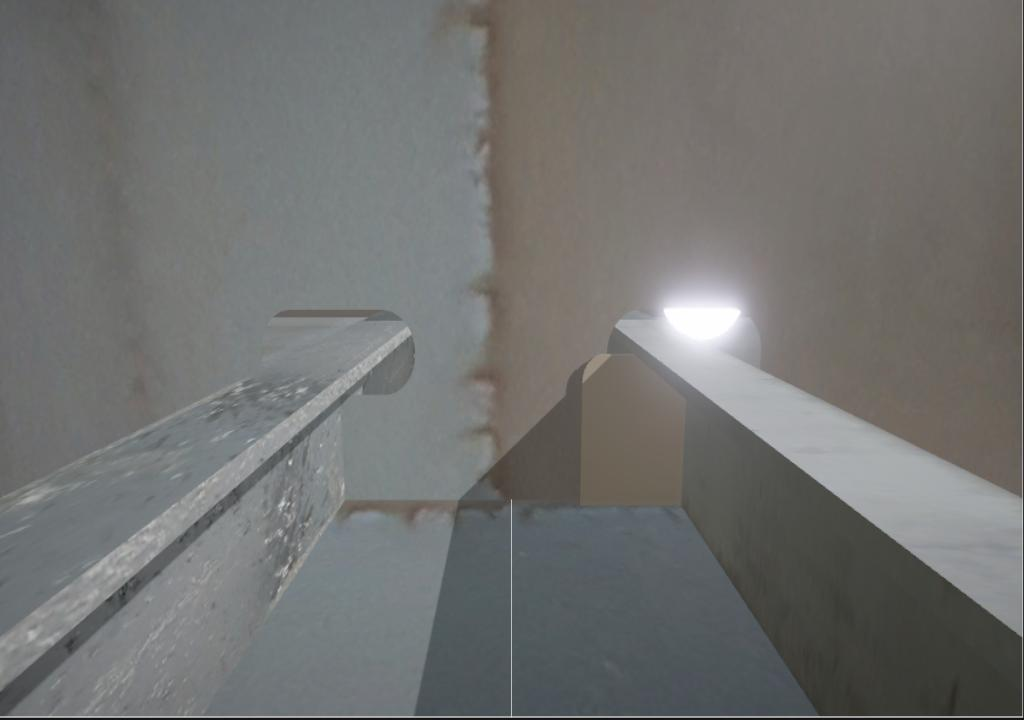fillet_yong_jeop_jang: (341, 494, 579, 505)
longi_yong_jeop_jang: (335, 390, 353, 514)
plate_CP05: (581, 354, 688, 507)
